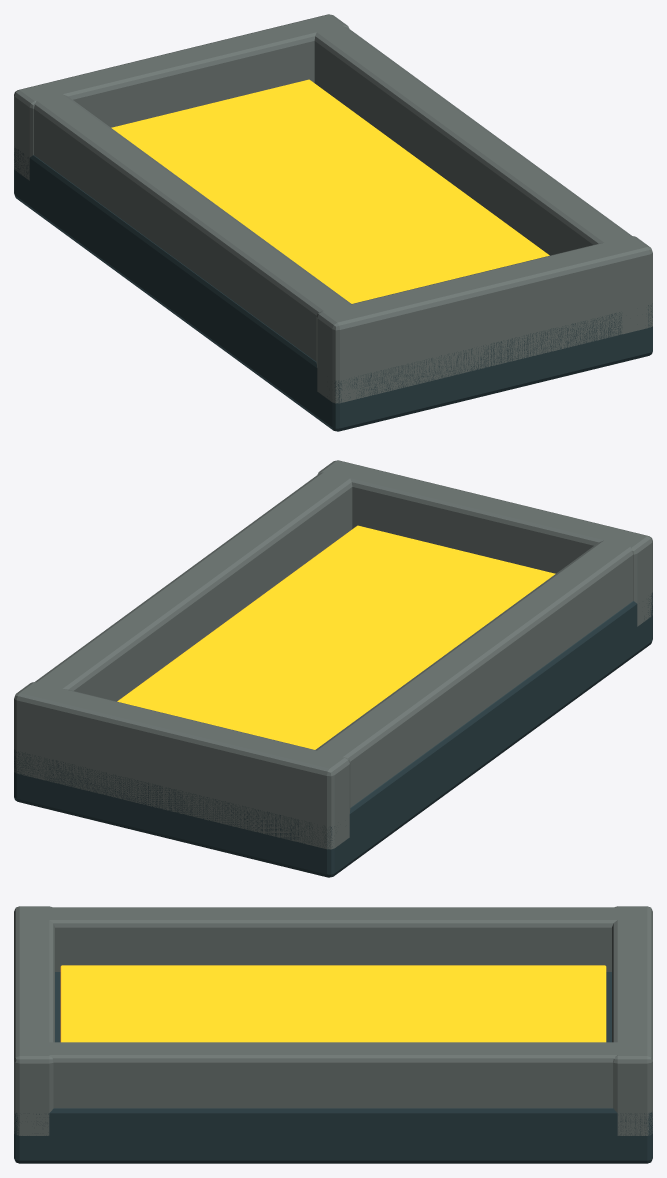
The model's file is casting-trough.glb.
3 renders of one model, top to bottom at view 1: azimuth 30°, elevation 25°; view 2: azimuth 150°, elevation 25°; view 3: azimuth 270°, elevation 25°, orthographic.
Parts seen in each view (by area): view 1: casting-trough__casting-trough__hardware, casting-trough__casting-trough__molten, casting-trough__casting-trough__steel; view 2: casting-trough__casting-trough__hardware, casting-trough__casting-trough__molten, casting-trough__casting-trough__steel; view 3: casting-trough__casting-trough__hardware, casting-trough__casting-trough__molten, casting-trough__casting-trough__steel.
Boxes of the visible parts, bbox=[...] form: casting-trough__casting-trough__hardware: bbox=[14, 14, 652, 403]; casting-trough__casting-trough__molten: bbox=[111, 79, 549, 303]; casting-trough__casting-trough__steel: bbox=[14, 148, 652, 431]; casting-trough__casting-trough__hardware: bbox=[14, 460, 652, 849]; casting-trough__casting-trough__molten: bbox=[117, 525, 555, 749]; casting-trough__casting-trough__steel: bbox=[14, 592, 652, 877]; casting-trough__casting-trough__hardware: bbox=[14, 906, 652, 1135]; casting-trough__casting-trough__molten: bbox=[60, 965, 606, 1042]; casting-trough__casting-trough__steel: bbox=[14, 972, 652, 1163].
Size of the model in its own units: 1.6 by 0.52 by 2.8.
